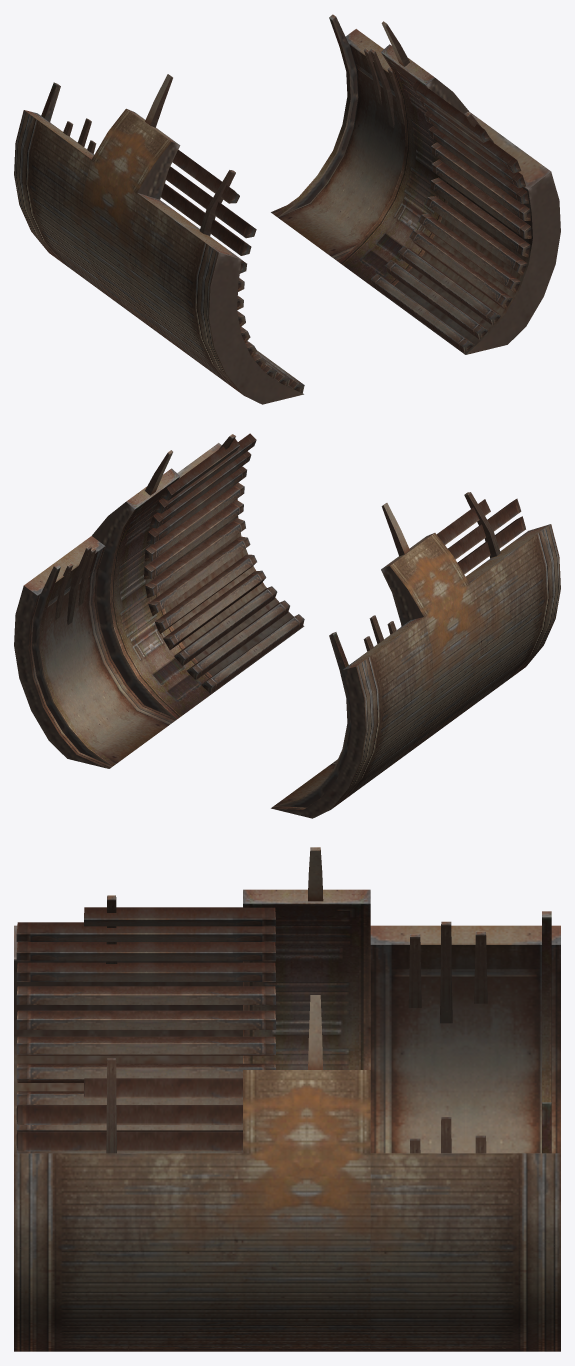
The model's file is yw_leinabao_wujian02.FBX.
3 renders of one model, top to bottom at view 1: azimuth 30°, elevation 25°; view 2: azimuth 150°, elevation 25°; view 3: azimuth 270°, elevation 25°, orthographic. The views are drawn at different scales.
Parts seen in each view (by area): view 1: yw_leinabao_wujian02; view 2: yw_leinabao_wujian02; view 3: yw_leinabao_wujian02.
Boxes of the visible parts, x1=… form: yw_leinabao_wujian02: x1=14, y1=14, x2=560, y2=404; yw_leinabao_wujian02: x1=14, y1=433, x2=560, y2=818; yw_leinabao_wujian02: x1=14, y1=847, x2=560, y2=1351.
Size of the model in its own units: 2110 by 1416 by 2025.
